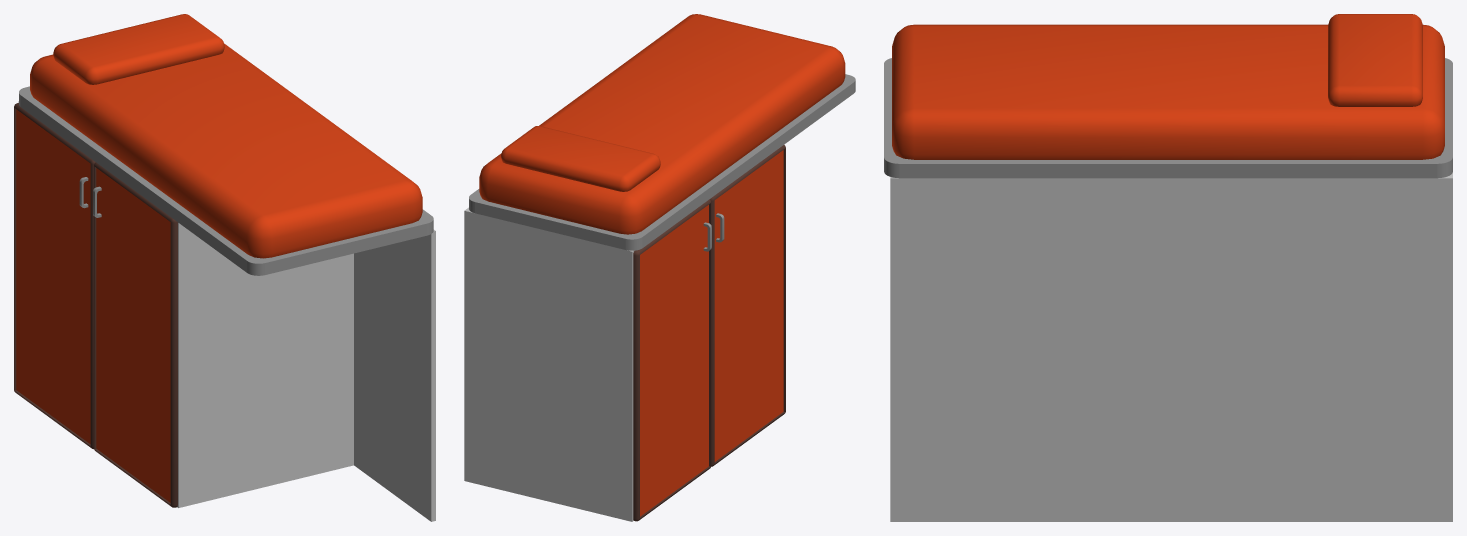
The model's file is lettoSoppalcoArancio.obj.
The picture shows the model from 3 angles, left to right: view 1: azimuth 30°, elevation 25°; view 2: azimuth 150°, elevation 25°; view 3: azimuth 270°, elevation 25°; orthographic projection. The views are drawn at different scales.
Parts seen in each view (by area): view 1: ChamferBox28_4, Box29_1, Box32_10, Box31_7, Box30_2, Rectangle06_3, ChamferBox29_5, ChamferBox31_11, ChamferBox30_6; view 2: Box29_1, ChamferBox28_4, Box32_10, Box31_7, Rectangle06_3, ChamferBox29_5, ChamferBox30_6, ChamferBox31_11; view 3: Box29_1, ChamferBox28_4, Box30_2, Rectangle06_3, ChamferBox29_5.
Boxes of the visible parts, x1,y1,x2,y2 form: ChamferBox28_4: (30,43,422,258); Box29_1: (18,101,353,507); Box32_10: (96,168,170,502); Box31_7: (16,109,90,443); Box30_2: (354,229,435,521); Rectangle06_3: (19,86,433,275); ChamferBox29_5: (53,14,224,84); ChamferBox31_11: (94,162,177,507); ChamferBox30_6: (14,103,95,449); Box29_1: (464,207,634,521); ChamferBox28_4: (479,14,845,234); Box32_10: (714,150,783,461); Box31_7: (640,205,708,516); Rectangle06_3: (469,74,855,250); ChamferBox29_5: (501,126,660,191); ChamferBox30_6: (633,199,711,521); ChamferBox31_11: (710,145,785,466); Box29_1: (1073,172,1452,521); ChamferBox28_4: (892,24,1444,159); Box30_2: (890,177,1073,521); Rectangle06_3: (884,58,1452,178); ChamferBox29_5: (1328,14,1422,106).
Size of the model in its own units: 82.87 by 146 by 180.
